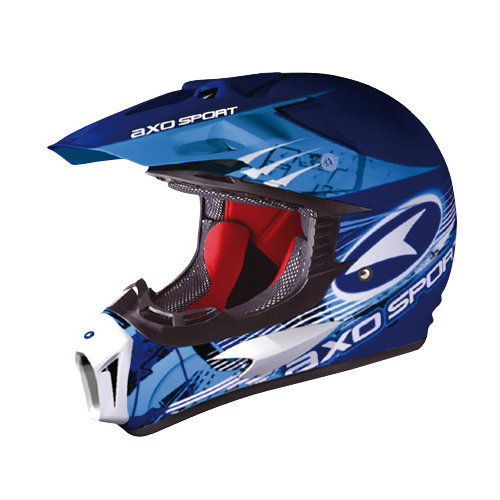helmet: (61, 74, 454, 396)
